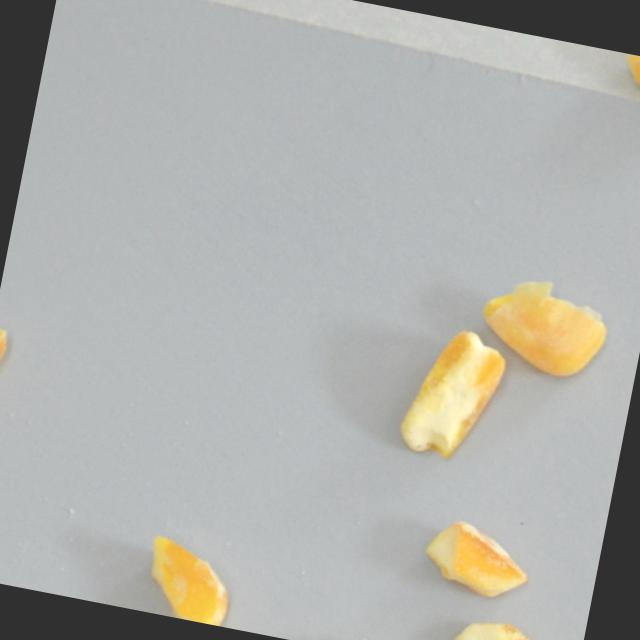pelicula: (470, 270, 613, 386), (130, 521, 250, 629), (416, 510, 536, 608), (451, 609, 568, 640), (0, 314, 21, 425)
